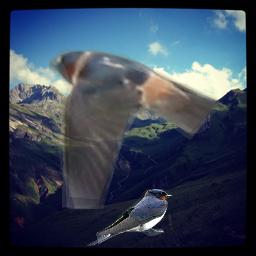Swallow: (49, 43, 223, 209), (87, 189, 173, 248)
